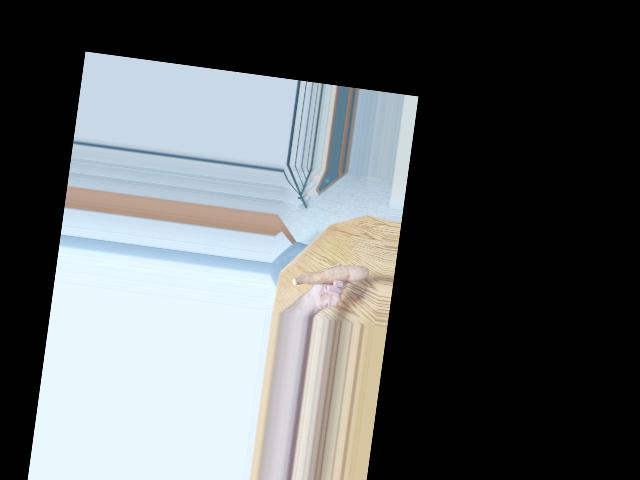sweet_potato: (293, 252, 367, 295)
